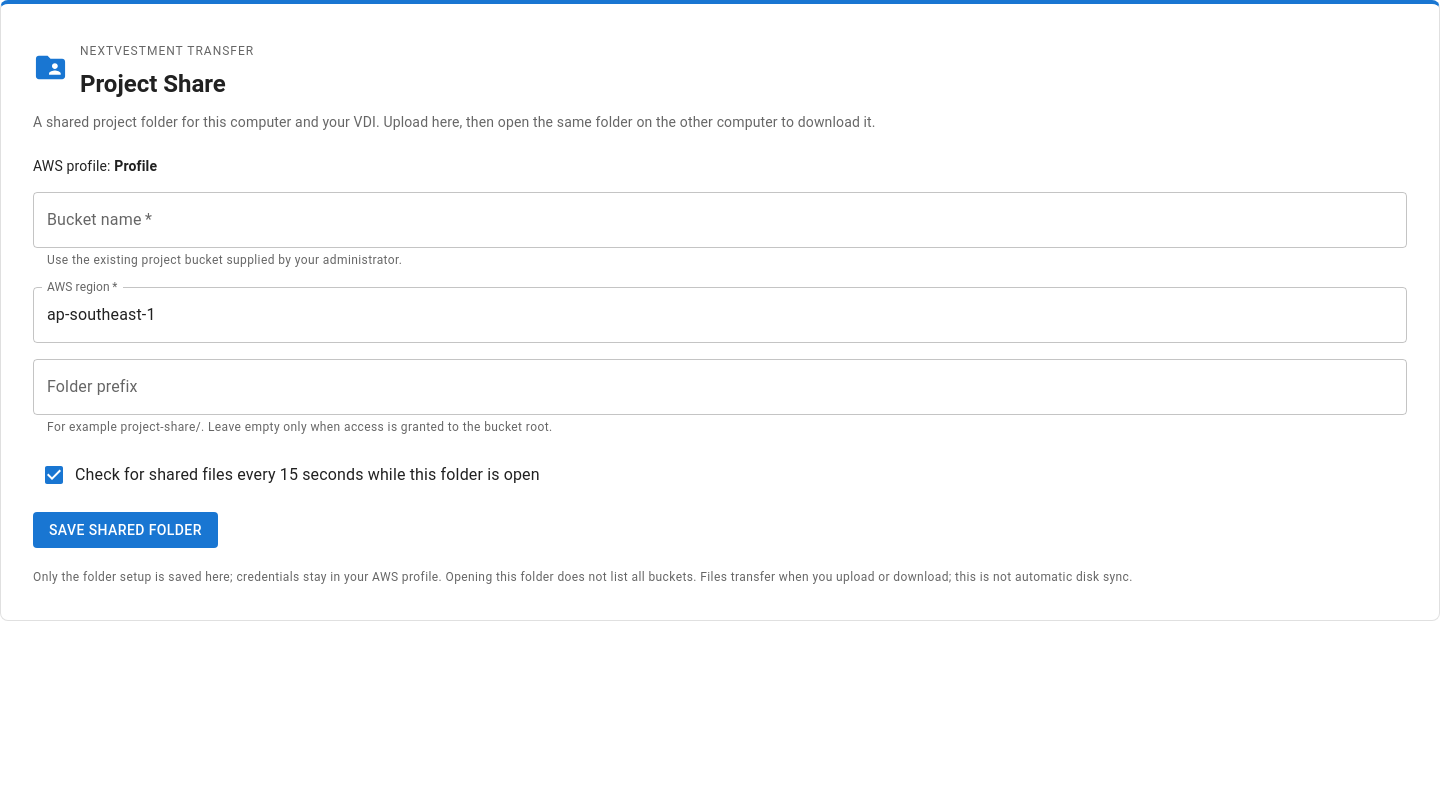
Scenario: rejects a URI in the bucket field and leaves the setup unsaved
Type "s3://project-files/" into the field labelled "Bucket name *" at (720, 220), box [33,192,1407,248]
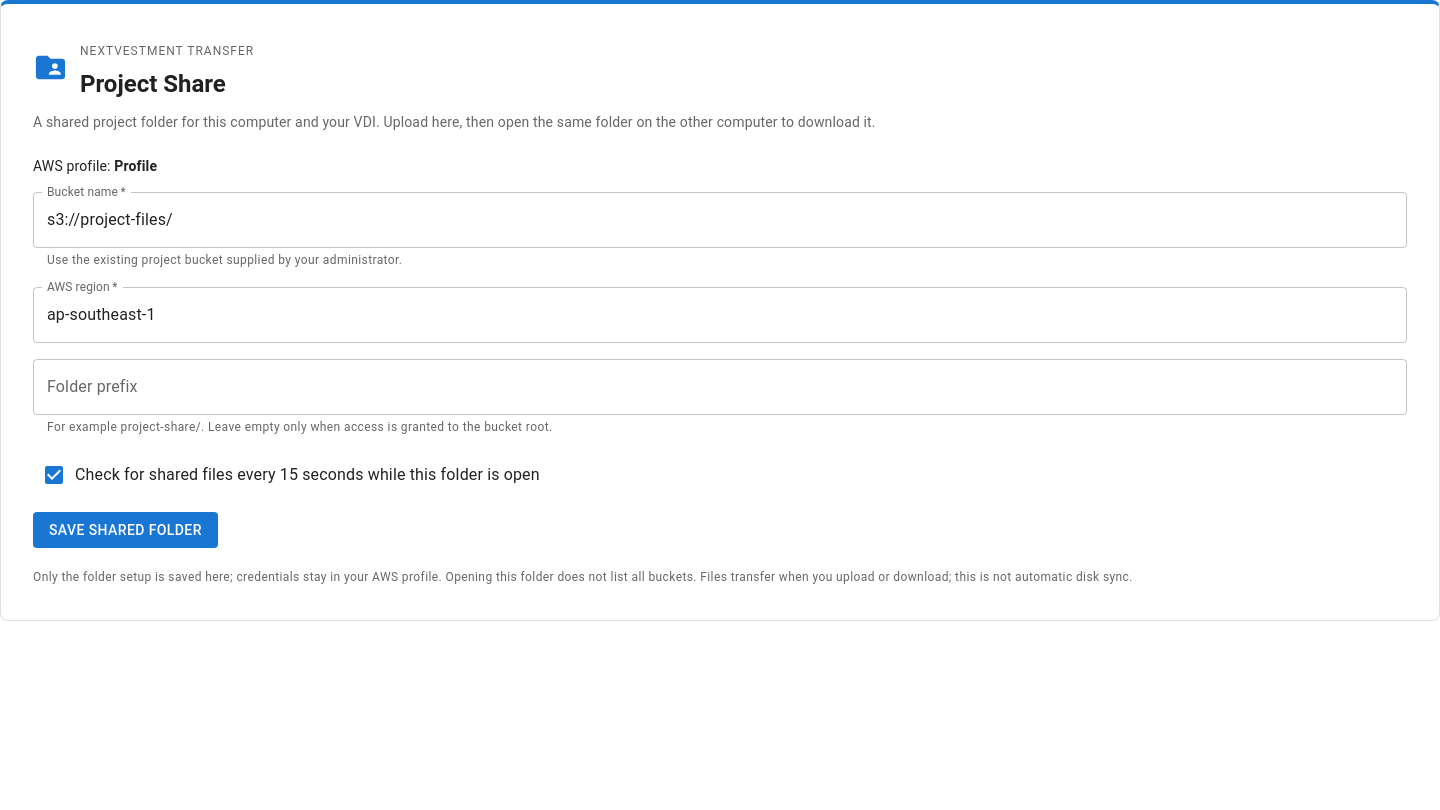
Click the button "Save shared folder" at (125, 530), box [33,512,218,548]
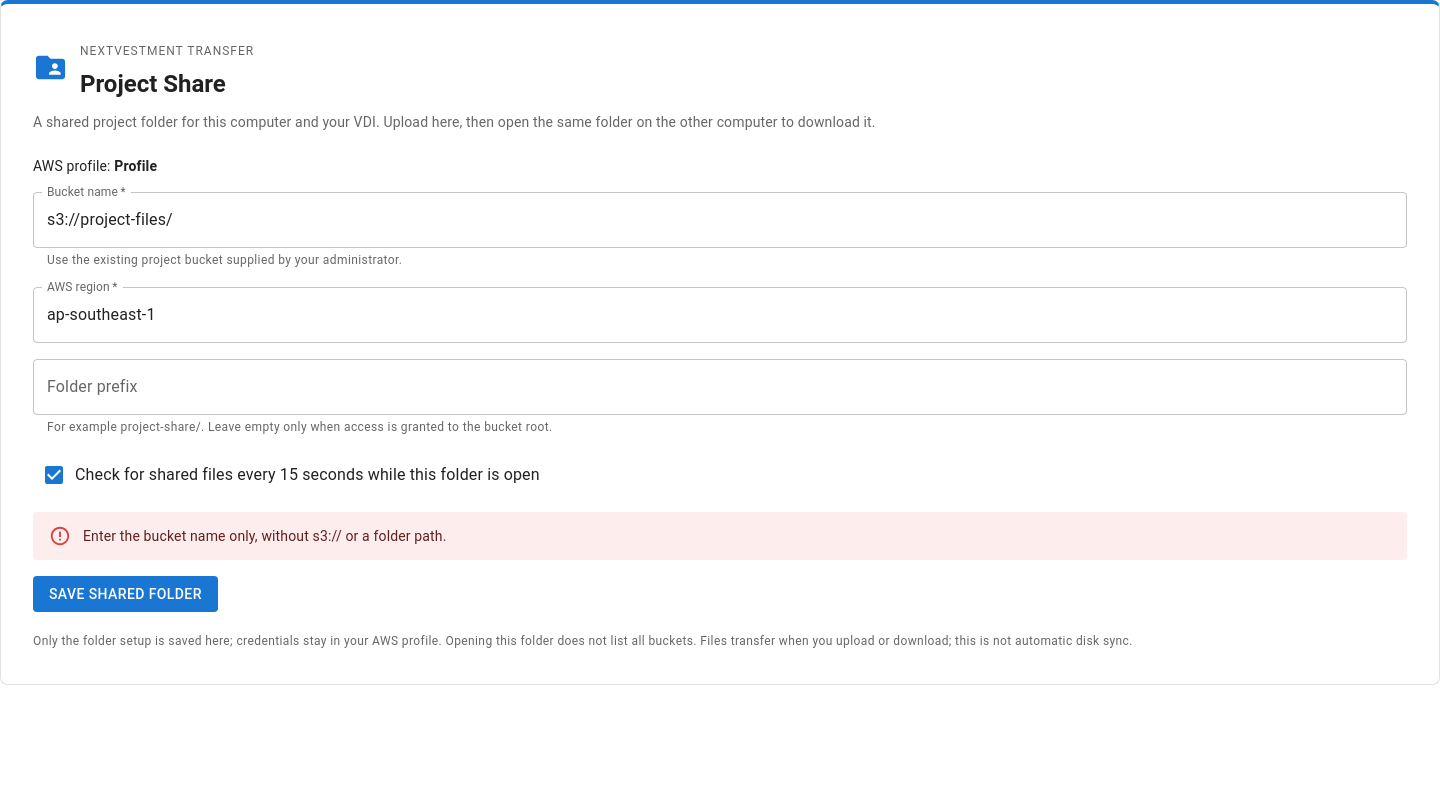
Expected: the message shows "bucket name only", [83,528,446,544]
